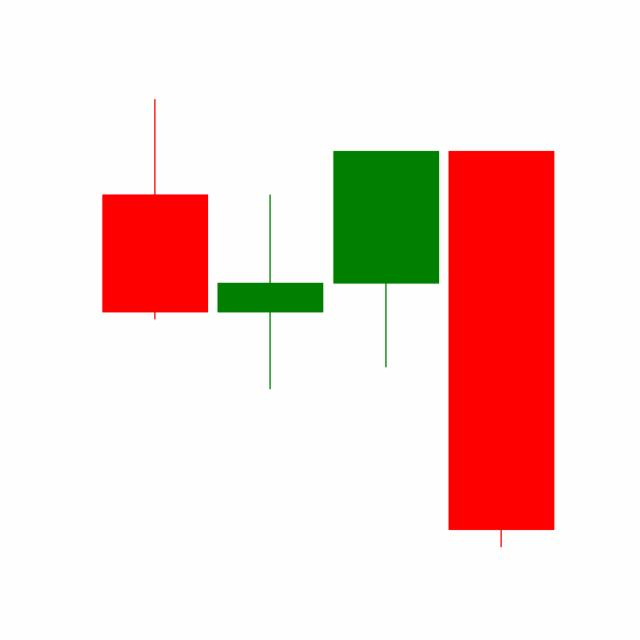Marubozu: (443, 146, 559, 551)
